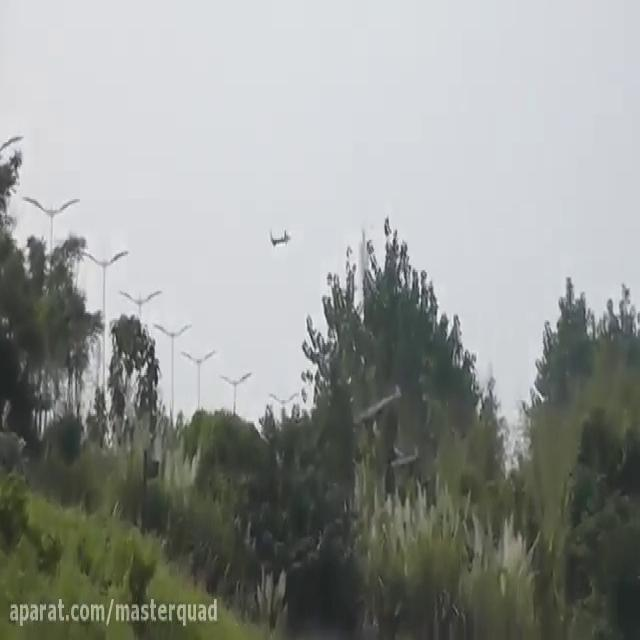drone: (266, 219, 292, 247)
